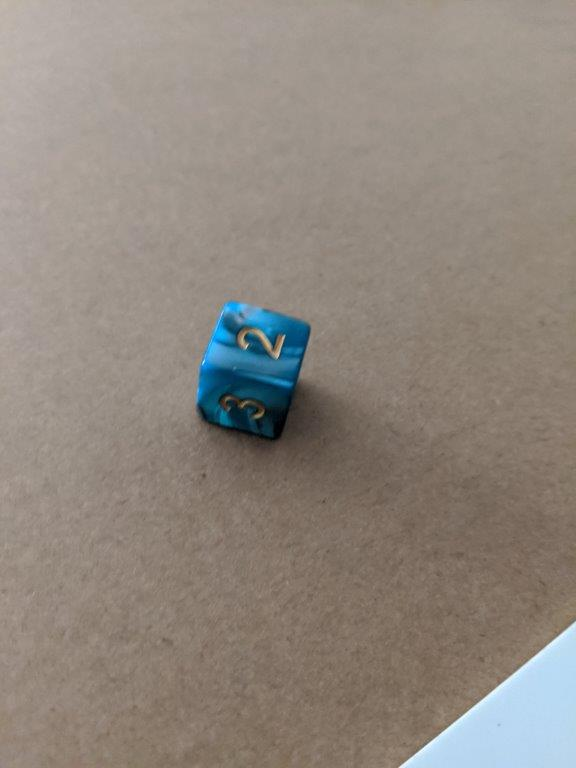d6-2: (194, 298, 312, 444)
